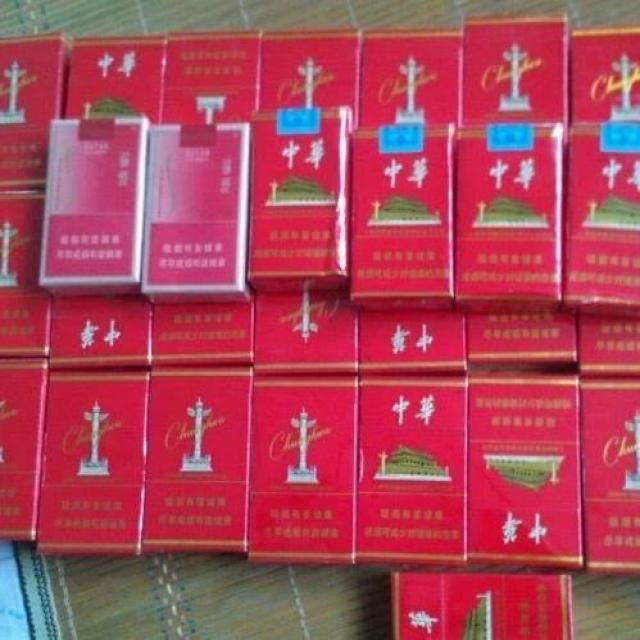box: (467, 372, 585, 570), (354, 377, 468, 568), (36, 370, 150, 556), (454, 122, 564, 311), (248, 376, 358, 564), (246, 106, 355, 294), (141, 368, 251, 553), (141, 123, 253, 304), (38, 116, 147, 299), (350, 123, 455, 307), (563, 122, 640, 314), (578, 375, 640, 574), (392, 572, 573, 640), (462, 15, 568, 127), (0, 32, 72, 194), (358, 28, 462, 127), (258, 29, 363, 126), (162, 30, 263, 123), (65, 32, 165, 124), (0, 358, 47, 540), (0, 192, 51, 357), (571, 26, 640, 122)
